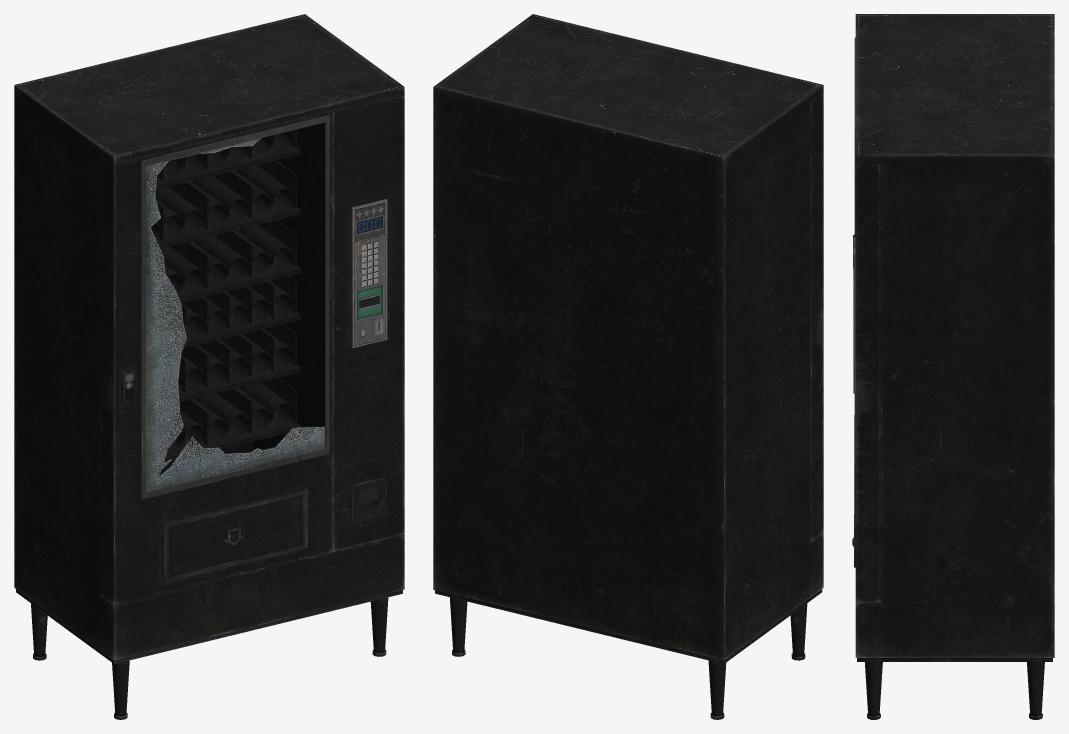
Rendered from sm24_024_vendingmachine04a.fbx.
3 views of the same model, side by side, from view 1: azimuth 30°, elevation 25°; view 2: azimuth 150°, elevation 25°; view 3: azimuth 270°, elevation 25° (orthographic).
Visible parts, largest first — view 1: LOD_1_Group_0_Sub_1__sm24_024_VendingMachine04A_A_Mat, LOD_1_Group_2_Sub_1__sm24_024_VendingMachine04A_Mat__En_9a64, LOD_1_Group_1_Sub_1__sm24_024_VendingMachine04A_Mat__Env_Alp; view 2: LOD_1_Group_0_Sub_1__sm24_024_VendingMachine04A_A_Mat; view 3: LOD_1_Group_0_Sub_1__sm24_024_VendingMachine04A_A_Mat.
Boxes of the visible parts, x1=… form: LOD_1_Group_0_Sub_1__sm24_024_VendingMachine04A_A_Mat: x1=14, y1=14, x2=404, y2=719; LOD_1_Group_2_Sub_1__sm24_024_VendingMachine04A_Mat__En_9a64: x1=150, y1=130, x2=293, y2=451; LOD_1_Group_1_Sub_1__sm24_024_VendingMachine04A_Mat__Env_Alp: x1=146, y1=138, x2=324, y2=491; LOD_1_Group_0_Sub_1__sm24_024_VendingMachine04A_A_Mat: x1=433, y1=14, x2=823, y2=719; LOD_1_Group_0_Sub_1__sm24_024_VendingMachine04A_A_Mat: x1=852, y1=14, x2=1054, y2=719.
Bounding box in the file's own units: 1.06 × 1.99 × 0.6421.
